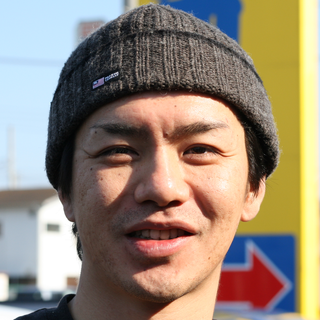eye: (95, 141, 142, 165), (177, 140, 223, 164)
